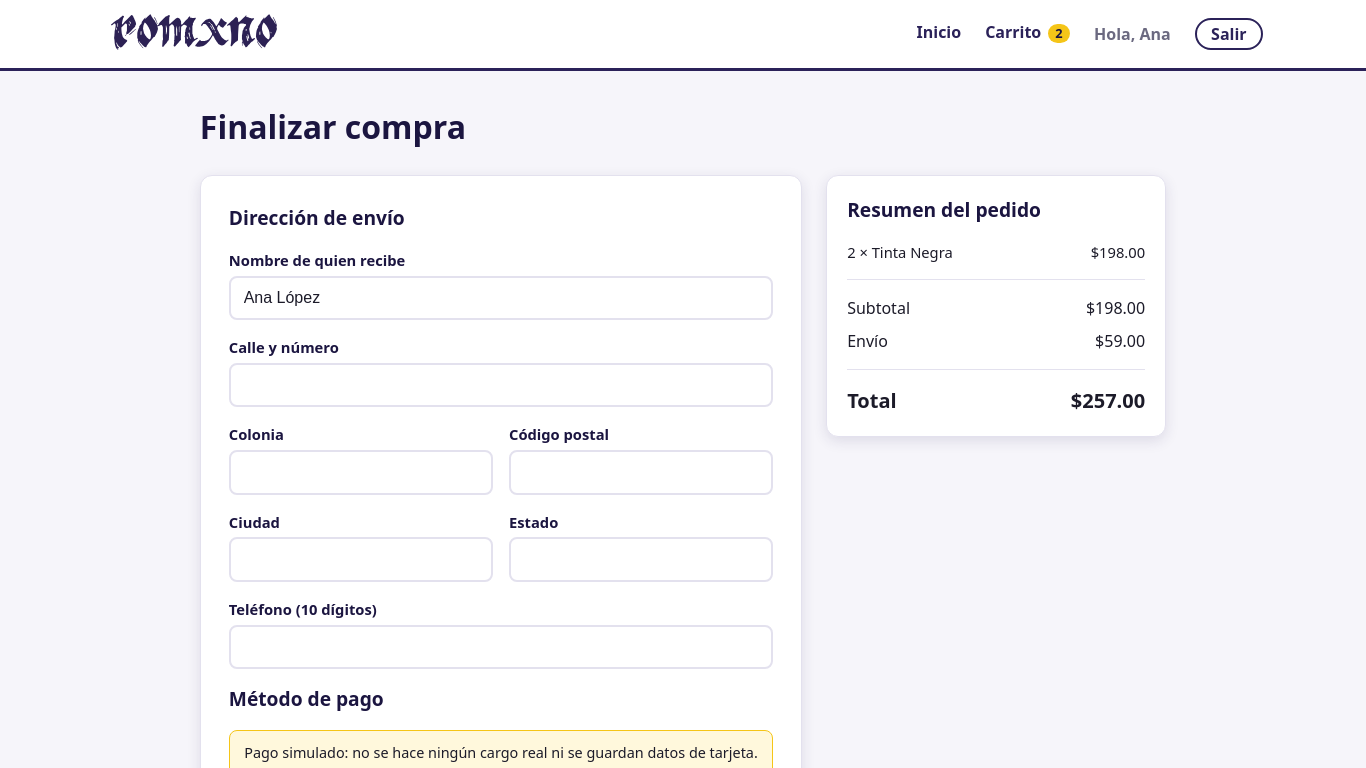
Test case: App › no deja confirmar la compra sin guardar el método de pago
The width and height of the screenshot is (1366, 768).
In the field labelled "Calle y número": (501, 385) x1=229 y1=363 x2=773 y2=407, type "Reforma 10"
In the field labelled "Colonia": (361, 472) x1=229 y1=450 x2=493 y2=495, type "Centro"
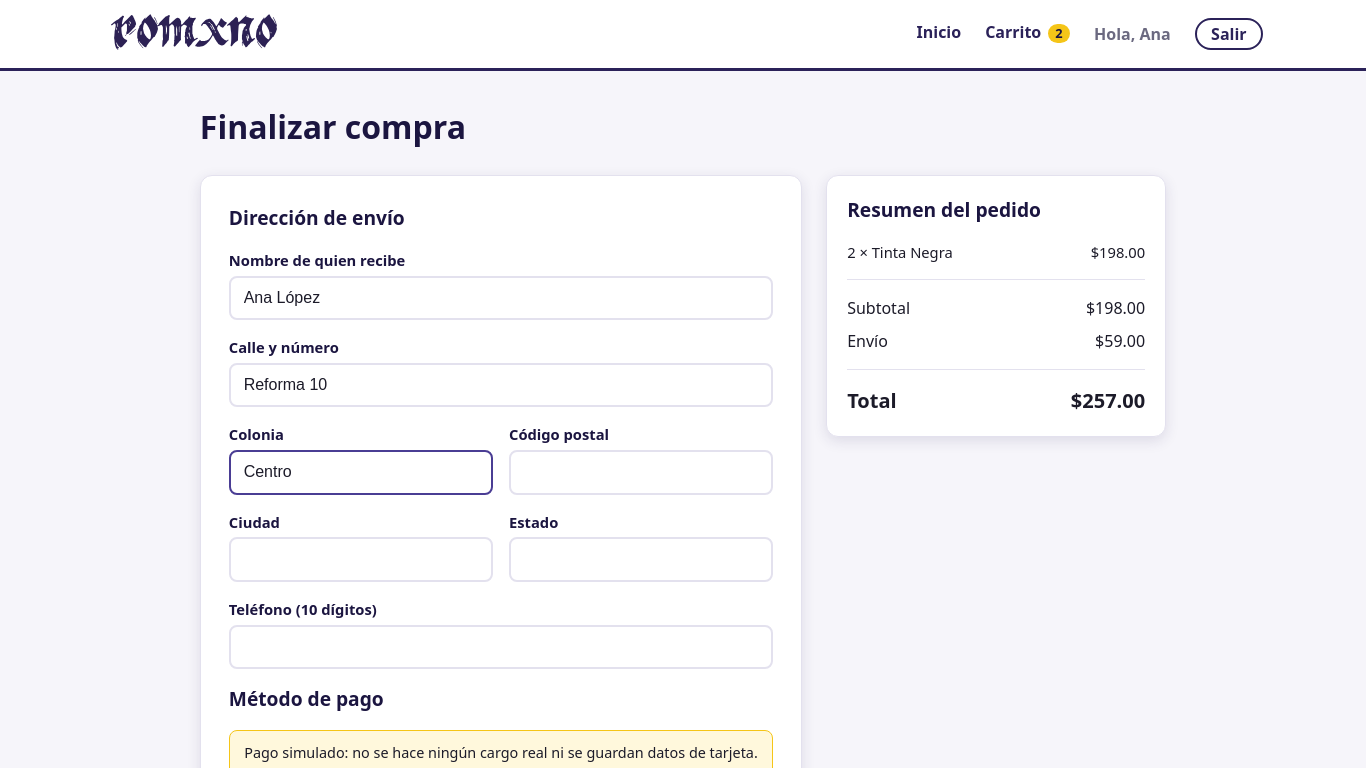
In the field labelled "Código postal": (641, 472) x1=509 y1=450 x2=773 y2=495, type "72000"
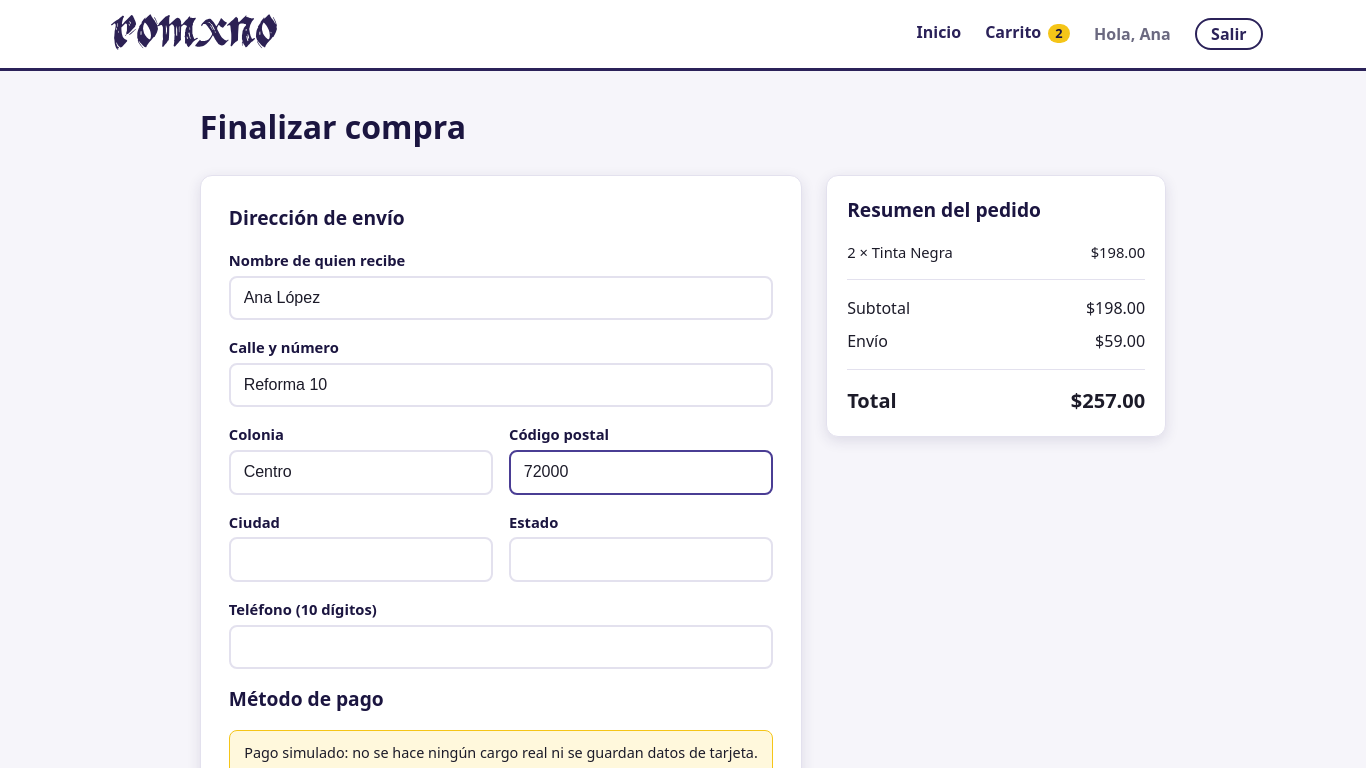
In the field labelled "Ciudad": (361, 560) x1=229 y1=537 x2=493 y2=582, type "Puebla"
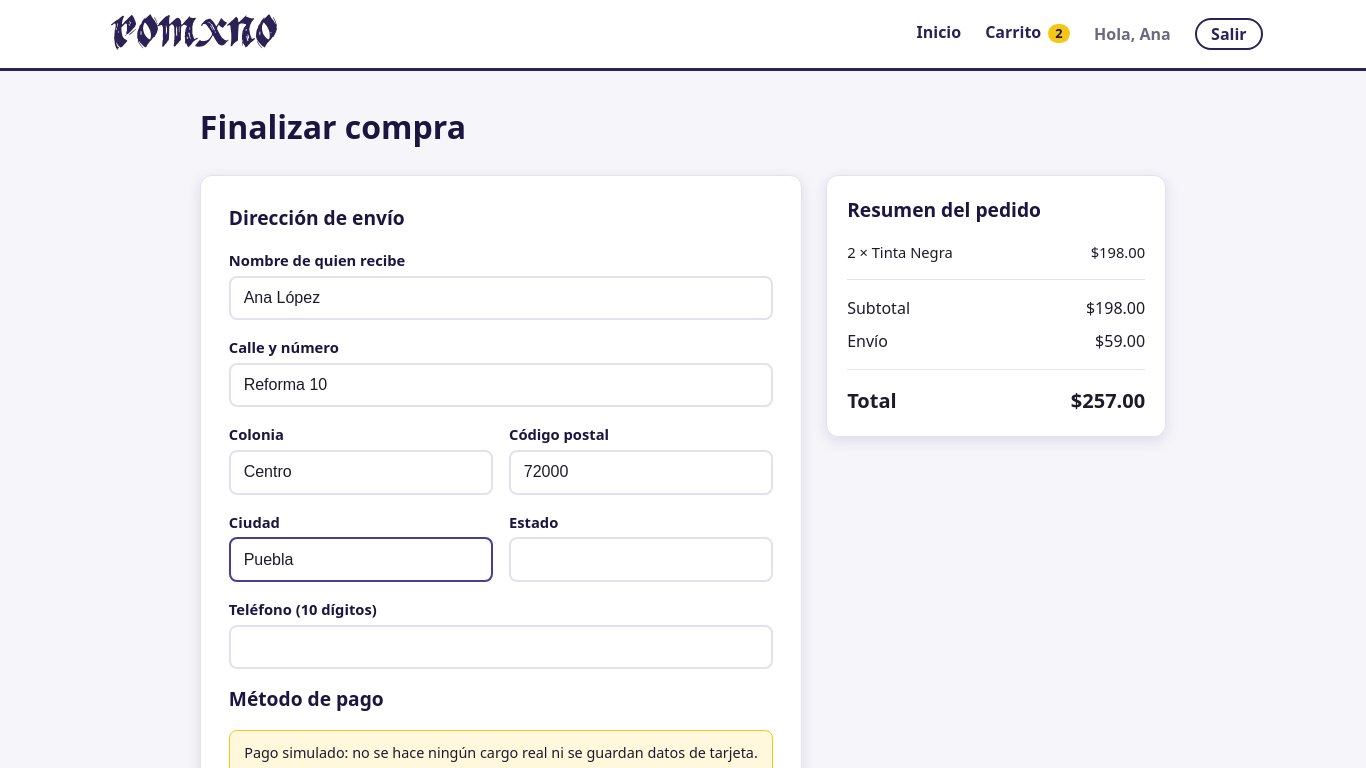
In the field labelled "Estado": (641, 560) x1=509 y1=537 x2=773 y2=582, type "Puebla"
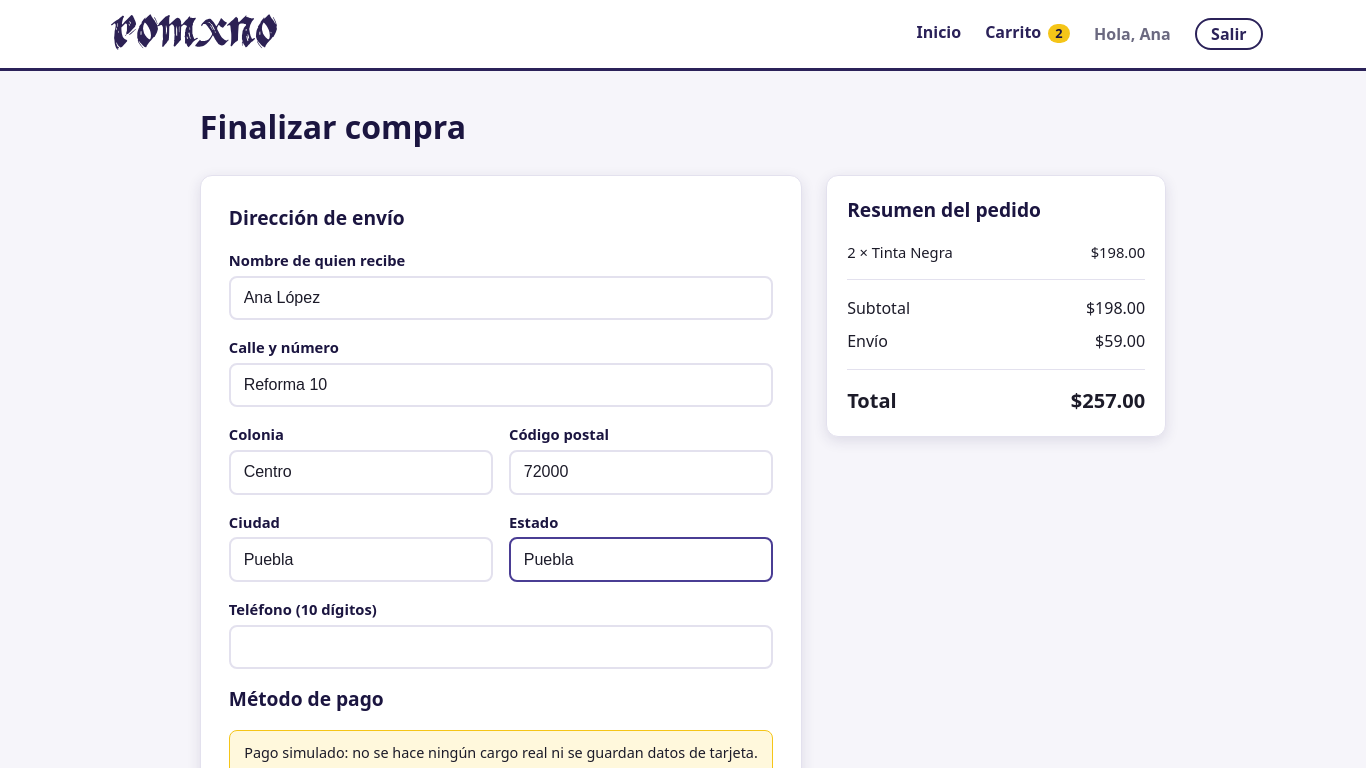
In the field labelled "Teléfono (10 dígitos)": (501, 647) x1=229 y1=625 x2=773 y2=669, type "2221234567"
(page scrolled)
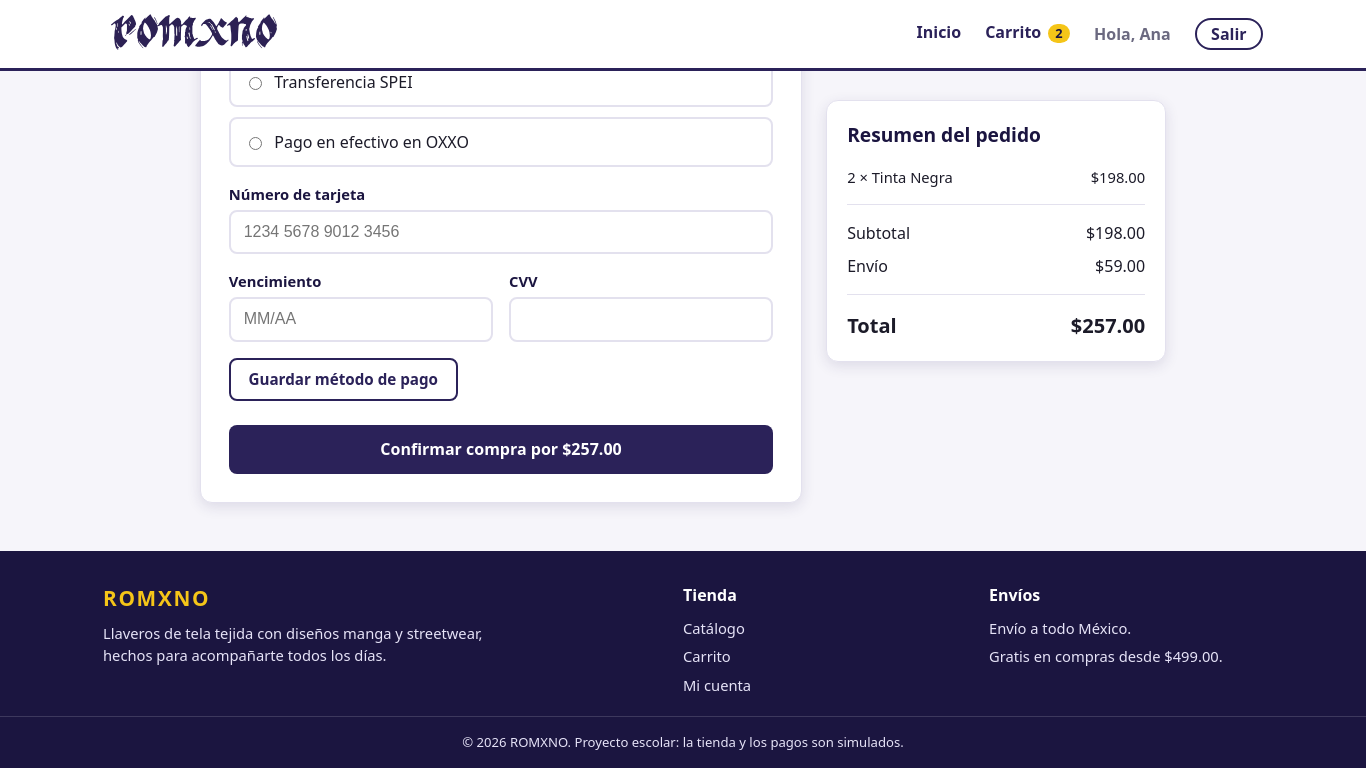
Click the button "Confirmar compra por $257.00": (501, 449) x1=229 y1=425 x2=773 y2=474
(page scrolled)
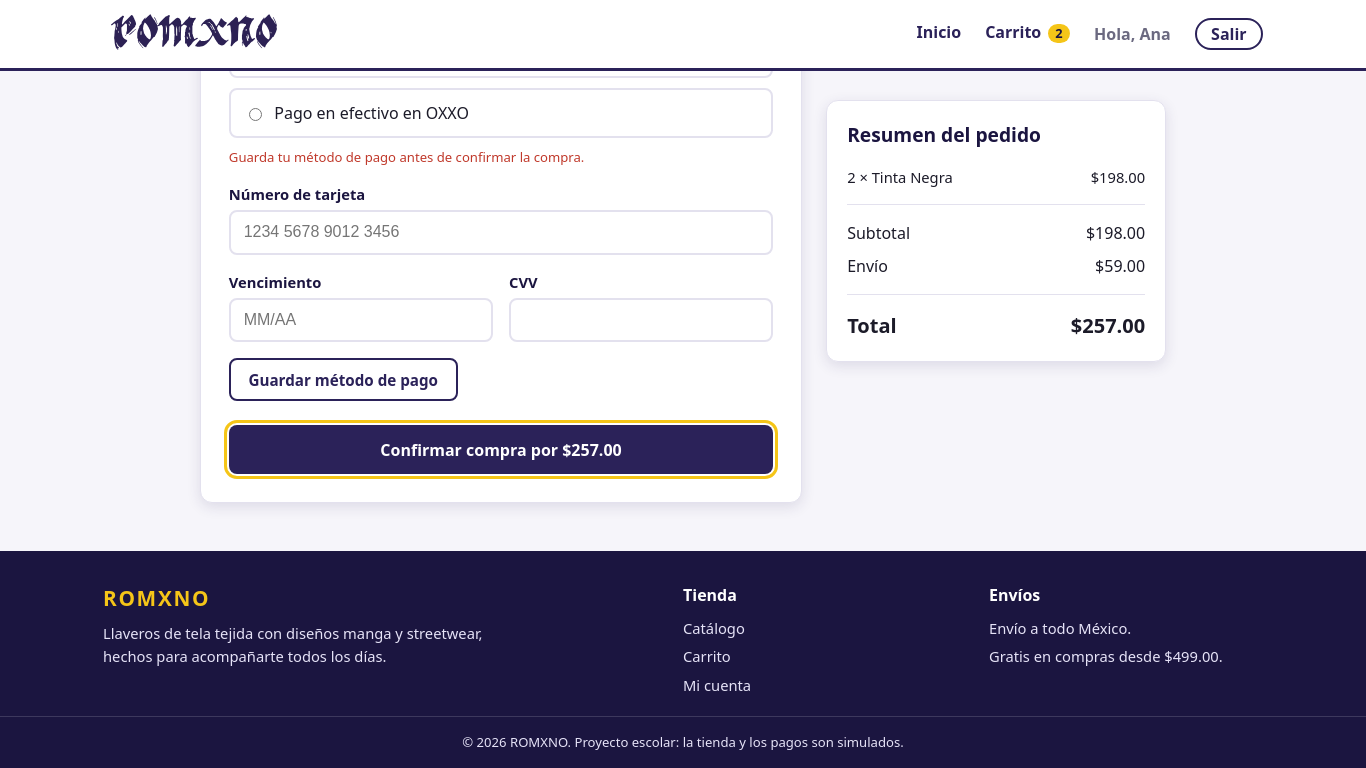
Result: the text "Guarda tu método de pago antes de confirmar la compra." is shown at x1=229 y1=148 x2=584 y2=166
